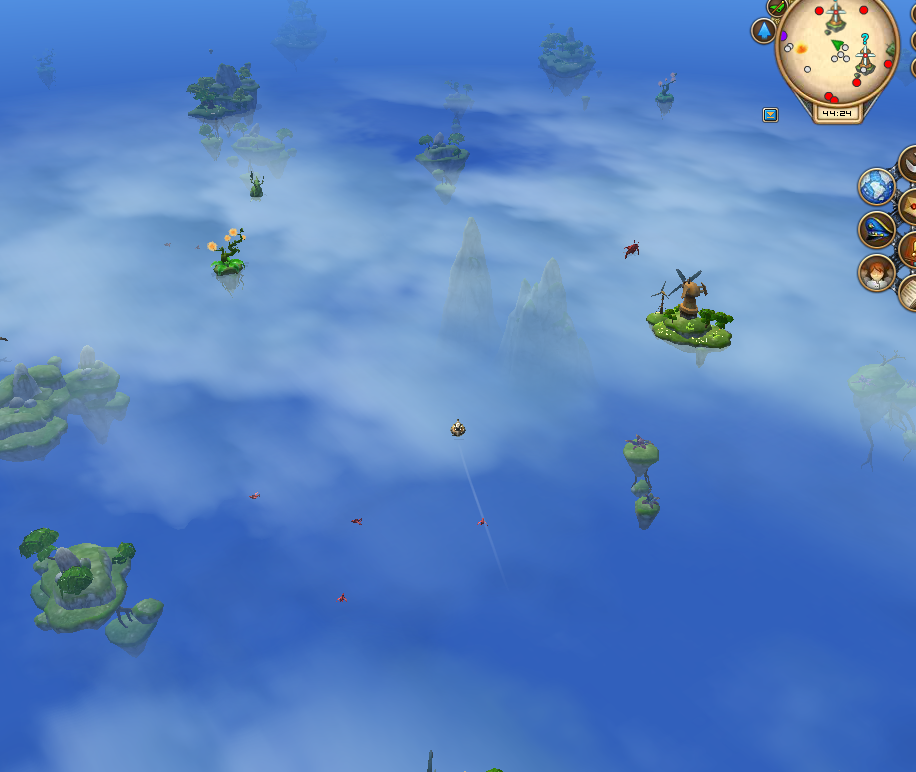dandelion-full: (205, 224, 250, 293), (653, 66, 680, 115), (33, 43, 58, 92)
